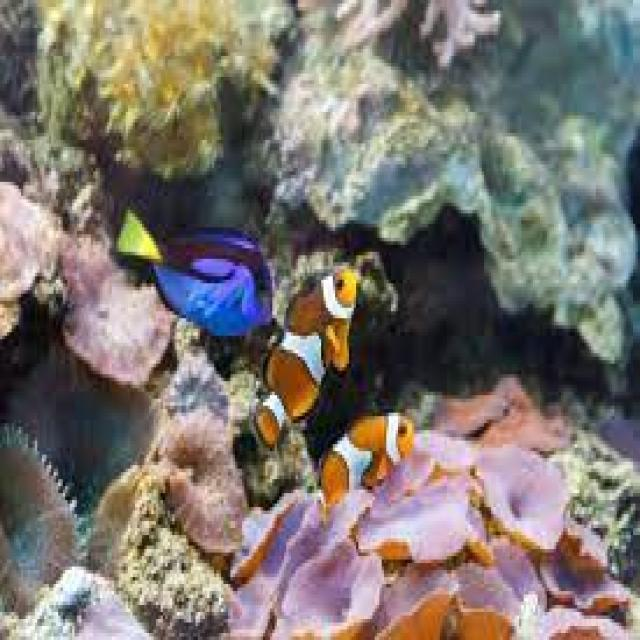ClownFish: (245, 260, 359, 446), (312, 410, 414, 516)
TangFish: (112, 200, 275, 332)
